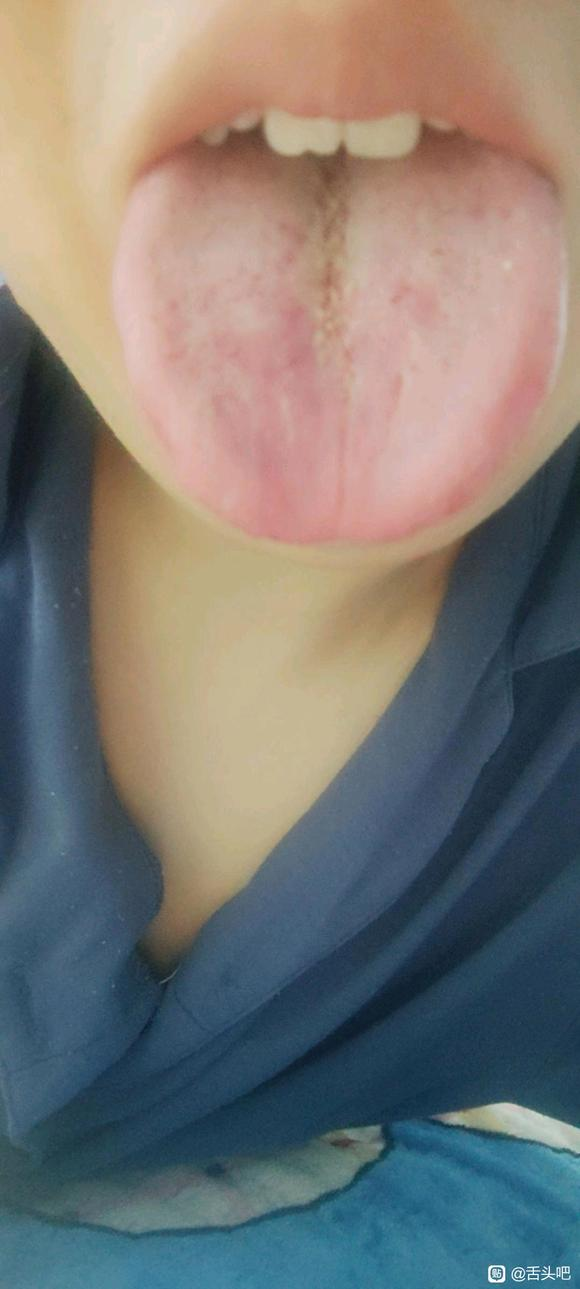baitaishe: (116, 127, 567, 547)
liewenshe: (306, 155, 362, 376)
pangdashe: (115, 127, 566, 547)
